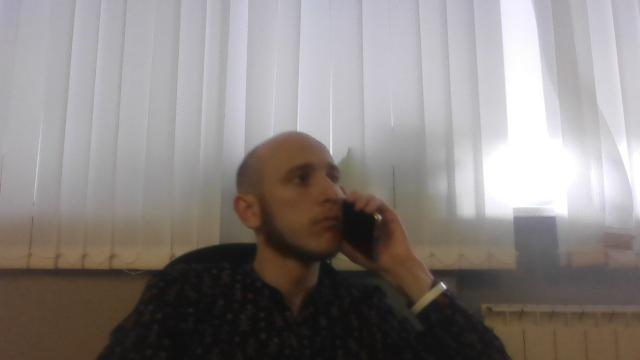PhoneUse: (339, 194, 383, 264)
SafeDriving: (287, 162, 318, 188)
